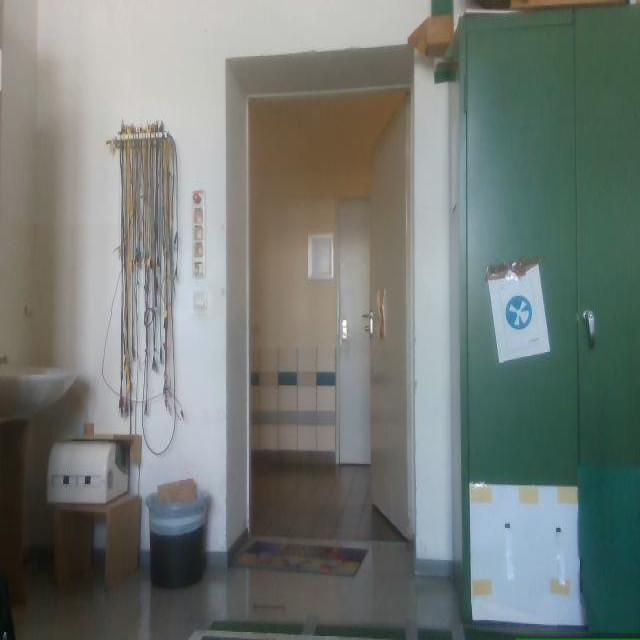objects: (450, 6, 639, 637), (47, 423, 142, 587), (578, 464, 639, 635), (54, 494, 140, 587), (47, 423, 141, 505), (146, 483, 207, 587), (47, 439, 129, 503), (0, 574, 15, 639)
